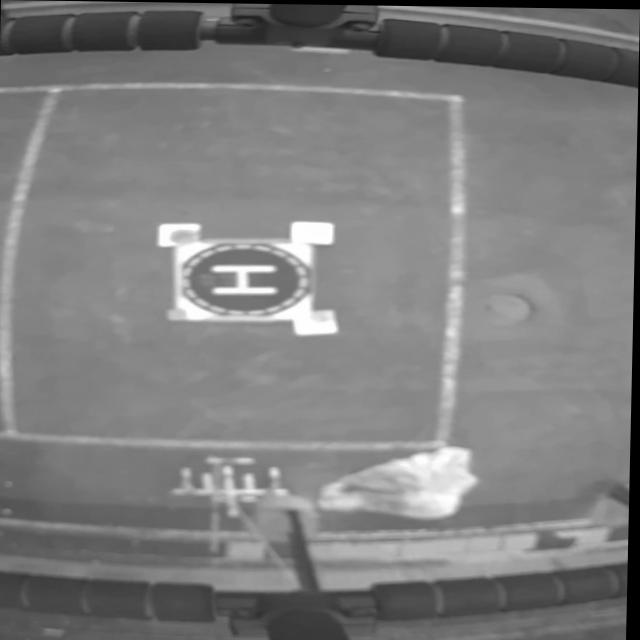Helipad: (213, 265, 279, 293)
